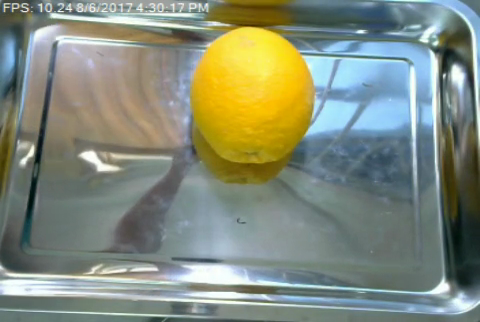Orange: (189, 26, 315, 165)
